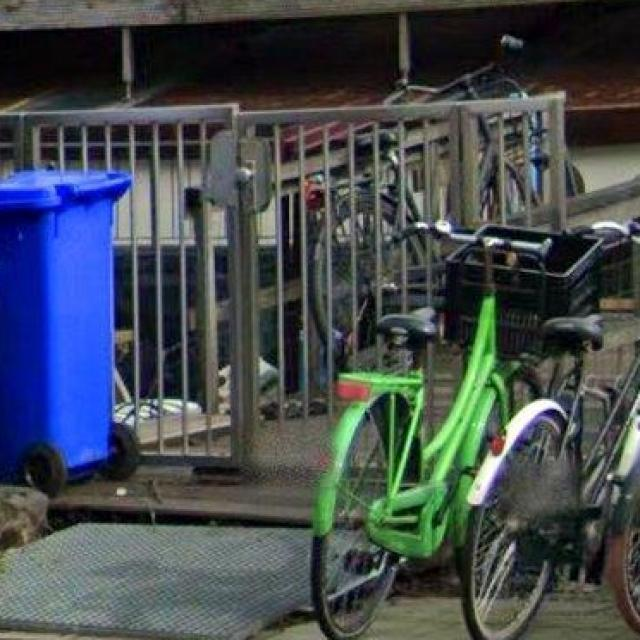bicycle: (314, 225, 640, 640), (313, 141, 444, 369), (386, 65, 531, 105), (482, 116, 500, 222), (531, 113, 552, 195)
